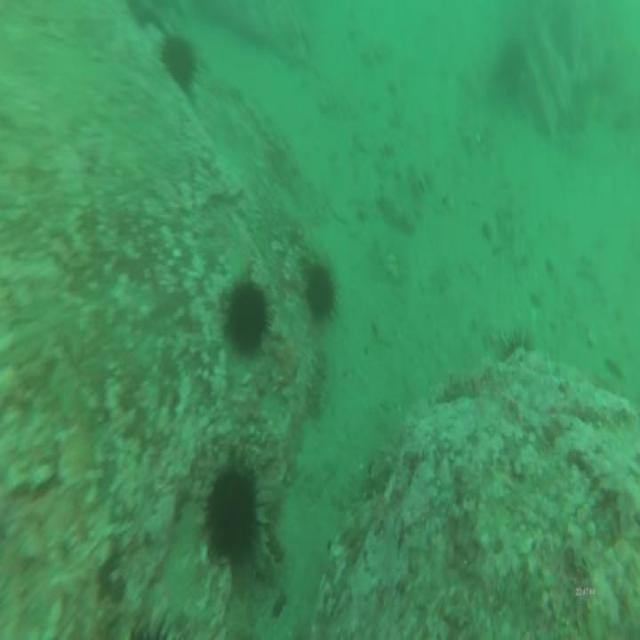echinus: (197, 454, 270, 574), (220, 270, 272, 362), (158, 28, 198, 98), (302, 260, 338, 326), (499, 319, 533, 368)
holothurian: (308, 348, 330, 423)
